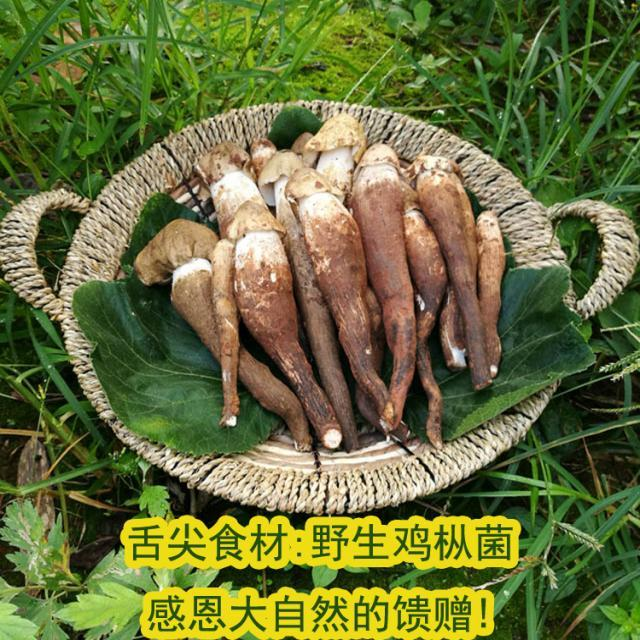Collybia albuminosa: (138, 219, 314, 452), (227, 201, 337, 438), (348, 141, 423, 419), (416, 146, 488, 399)
